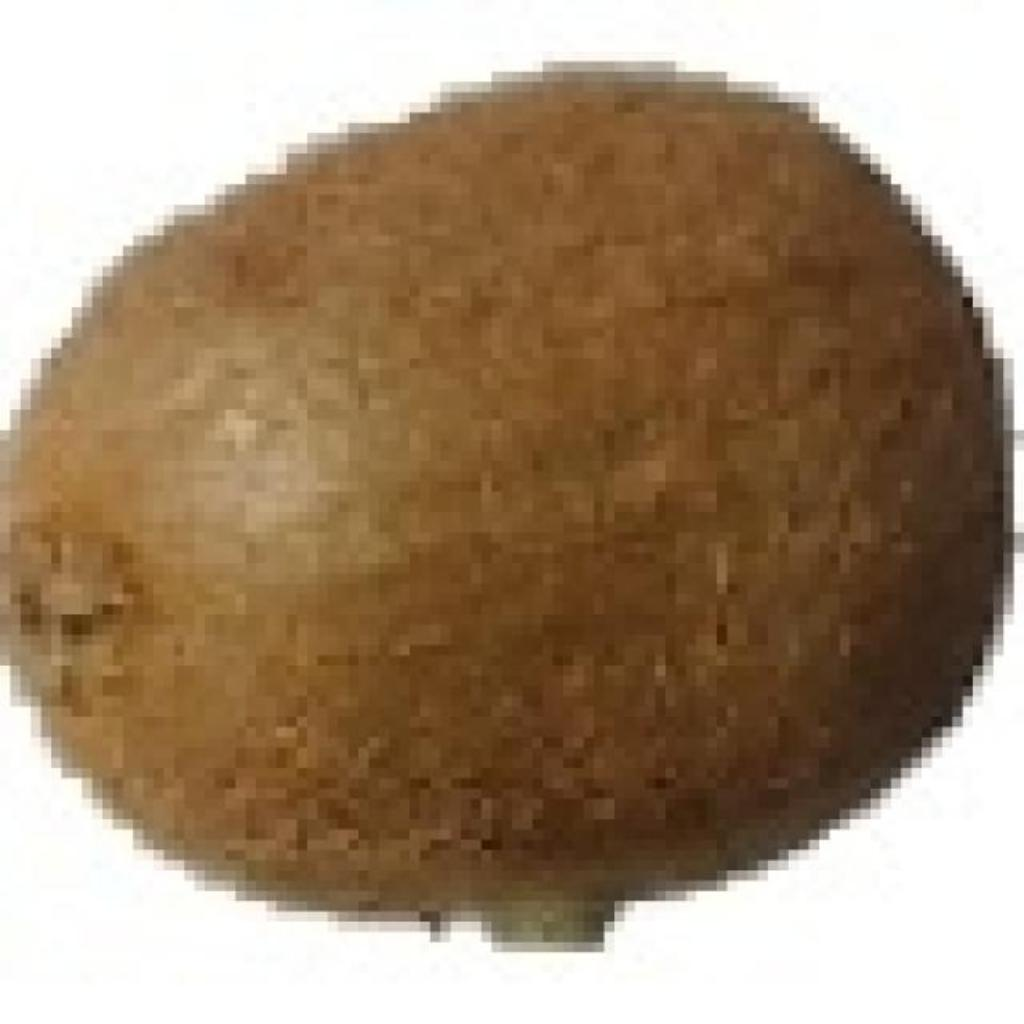kiwi: (0, 61, 983, 922)
